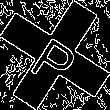P_NE: (26, 24, 84, 86)
